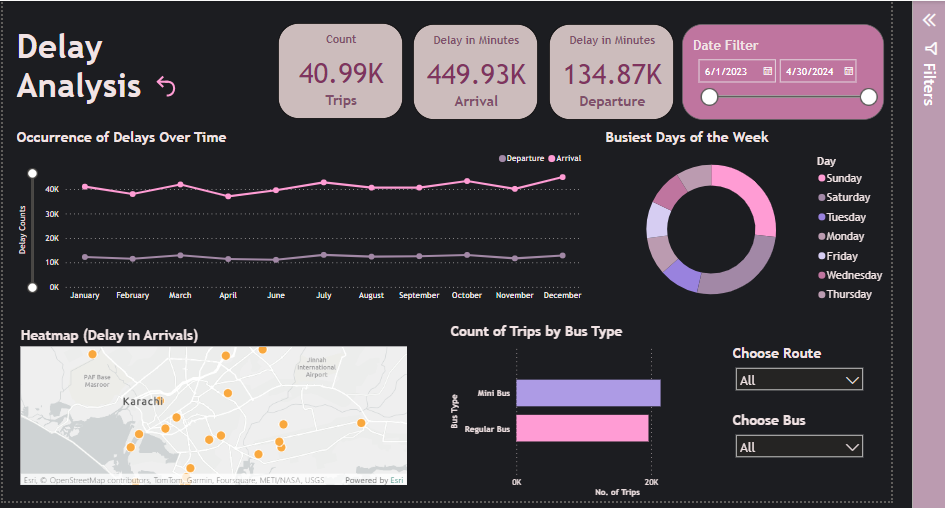

Layout of this report page (visuals, bound fields, positions):
{"tool":"powerbi","page":{"name":"Delay Analysis","canvas":[1280,720],"ordinal":1},"visuals":[{"type":"lineChart","title":"Occurrence of Delays Over Time","fields":{"Category":["public Fact Table Snapshot.DateID.Variation.Date Hierarchy.Year","public Fact Table Snapshot.DateID.Variation.Date Hierarchy.Quarter","public Fact Table Snapshot.DateID.Variation.Date Hierarchy.Month","public Fact Table Snapshot.DateID.Variation.Date Hierarchy.Day"],"Y":["Sum(public Fact Table Snapshot.Delay_Departure)","Sum(public Fact Table Snapshot.Delay_Arrival)"]},"box":[14.4,184.3,828,266.4],"z":0},{"type":"textbox","box":[14.4,31.7,247.7,125.3],"z":1000},{"type":"card","fields":{"Values":["Sum(public Fact Table Snapshot.Delay_Arrival)"]},"box":[590.4,33.1,180,138.2],"z":2000},{"type":"card","fields":{"Values":["Sum(public Fact Table Snapshot.Delay_Departure)"]},"box":[786.2,33.1,180,138.2],"z":3000},{"type":"esriVisual","title":"Heatmap (Delay in Arrivals)","fields":{"Latitude":["public Fact Table Snapshot.DestLat"],"Longitude":["public Fact Table Snapshot.DestLong"],"Location":["public Fact Table Snapshot.Delay_Arrival"]},"box":[14.4,463.7,576,241.9],"z":4000},{"type":"slicer","title":"Date Filter","fields":{"Values":["public Fact Table Snapshot.DateID"]},"box":[977.8,33.1,290.9,138.2],"z":5000},{"type":"barChart","title":"Count of Trips by Bus Type","fields":{"Category":["public Fact Table Snapshot.BusType"],"Y":["CountNonNull(public Fact Table Snapshot.TripID)"]},"box":[639.4,463.7,406.1,256.3],"z":6000},{"type":"donutChart","title":"Busiest Days of the Week","fields":{"Category":["public Fact Table Snapshot.DayOfWeekName"],"Y":["CountNonNull(public Fact Table Snapshot.TripID)"]},"box":[862.6,184.3,417.6,266.4],"z":7000},{"type":"slicer","title":"Choose Route","fields":{"Values":["public Fact Table Snapshot.RouteName"]},"box":[1045.4,495.4,203,89.3],"z":8000},{"type":"slicer","title":"Choose Bus","fields":{"Values":["public Fact Table Snapshot.BusName"]},"box":[1045.4,591.8,203,89.3],"z":9000},{"type":"card","fields":{"Values":["CountNonNull(public Fact Table Snapshot.TripID)"]},"box":[396,31.7,180,138.2],"z":10000},{"type":"actionButton","box":[214.6,102.2,47.5,40.3],"z":11000}]}

Visuals, with their boxes on the page's 1280x720 design canvas (x1, y1, x2, y2). These are canvas units, not pixel positions in the 945x508 screenshot, which may show the page scaled, cropped or inside an application window:
"Occurrence of Delays Over Time" lineChart: {"x1": 14, "y1": 184, "x2": 842, "y2": 451}
textbox: {"x1": 14, "y1": 32, "x2": 262, "y2": 157}
card - Sum(public Fact Table Snapshot.Delay_Arrival): {"x1": 590, "y1": 33, "x2": 770, "y2": 171}
card - Sum(public Fact Table Snapshot.Delay_Departure): {"x1": 786, "y1": 33, "x2": 966, "y2": 171}
"Heatmap (Delay in Arrivals)" esriVisual: {"x1": 14, "y1": 464, "x2": 590, "y2": 706}
"Date Filter" slicer: {"x1": 978, "y1": 33, "x2": 1269, "y2": 171}
"Count of Trips by Bus Type" barChart: {"x1": 639, "y1": 464, "x2": 1046, "y2": 720}
"Busiest Days of the Week" donutChart: {"x1": 863, "y1": 184, "x2": 1280, "y2": 451}
"Choose Route" slicer: {"x1": 1045, "y1": 495, "x2": 1248, "y2": 585}
"Choose Bus" slicer: {"x1": 1045, "y1": 592, "x2": 1248, "y2": 681}
card - CountNonNull(public Fact Table Snapshot.TripID): {"x1": 396, "y1": 32, "x2": 576, "y2": 170}
actionButton: {"x1": 215, "y1": 102, "x2": 262, "y2": 142}
